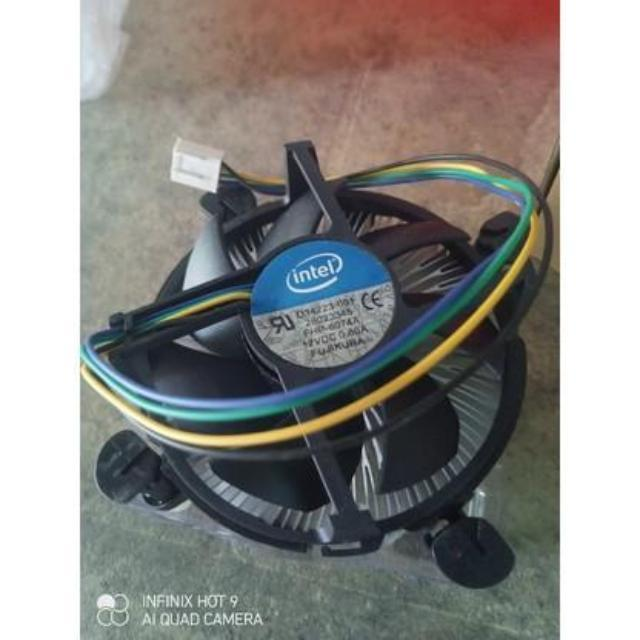CPU_Fan: (96, 160, 522, 588)
